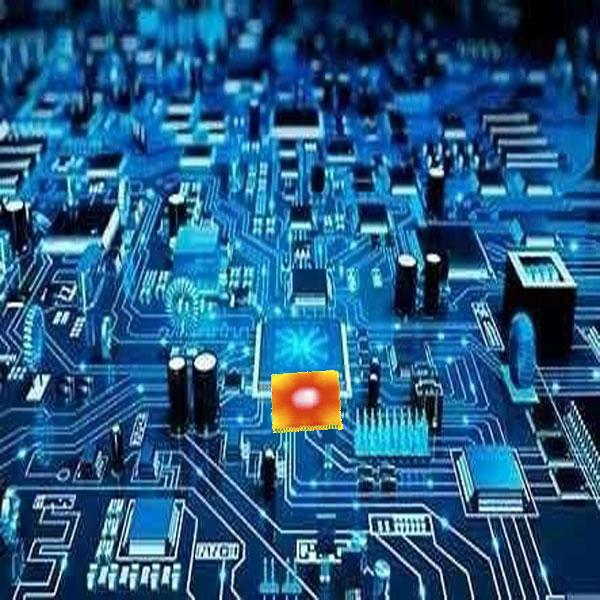componente_T: (266, 369, 347, 435)
